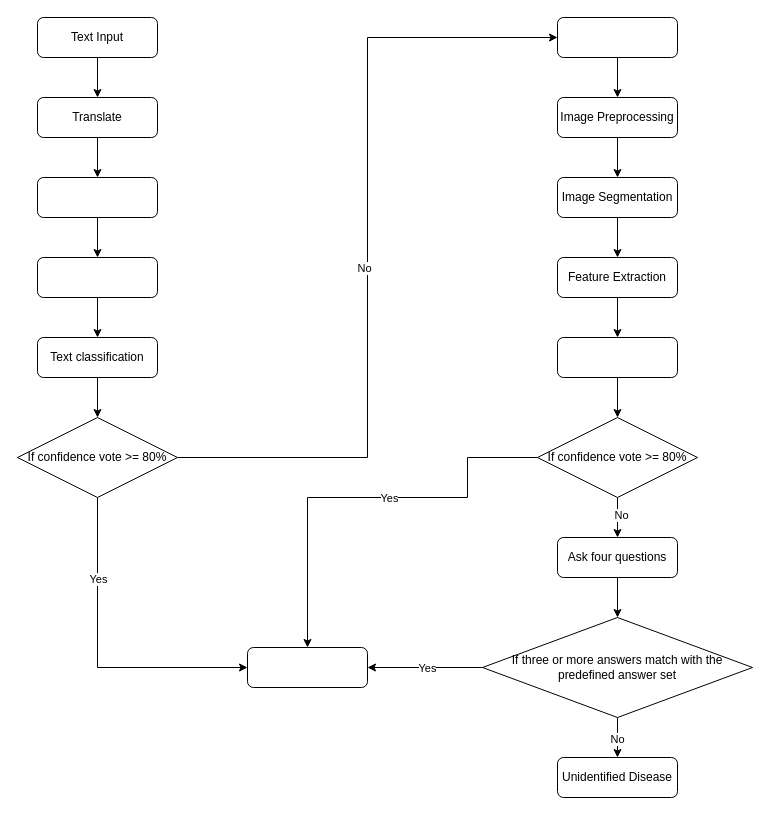
The diagram is 770 pixels wide and 815 high, and some of its shapes have lost their labels. Here are the shapes that lost their labels. From the top down, the centre of each, then its label:
At point 617,37: "Image Input".
At point 97,197: "Preprocessing".
At point 97,277: "NLP Analysis".
At point 617,357: "ML Classification".
At point 307,667: "Identify the Disease".
